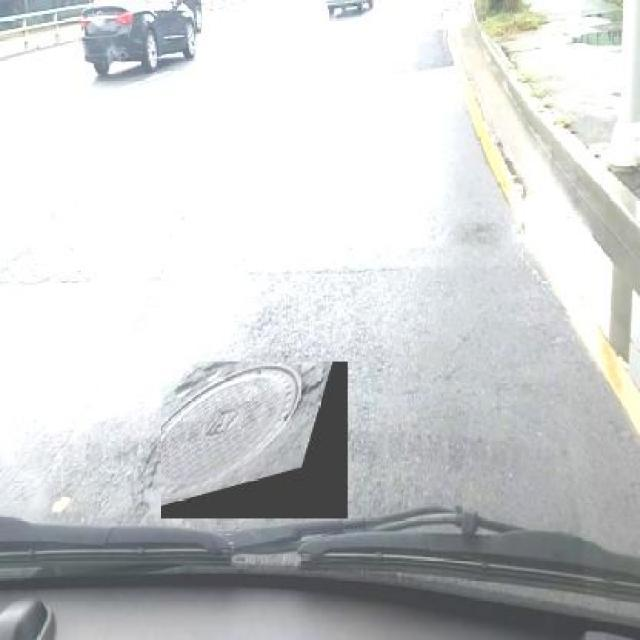Manhole: (160, 362, 348, 520)
Pothole: (130, 497, 156, 522), (46, 491, 73, 513)
